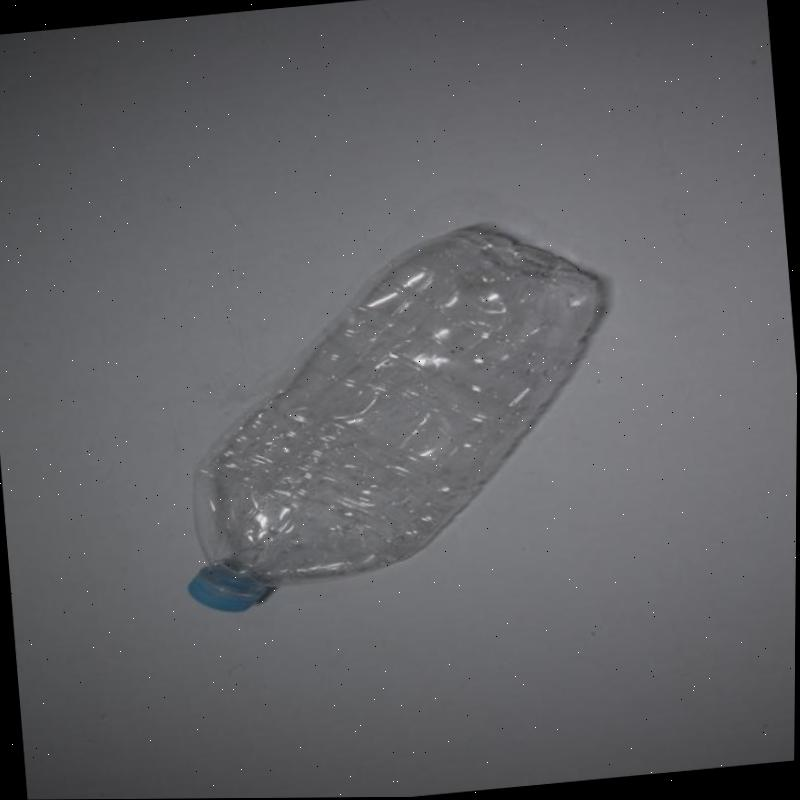botella: (157, 213, 635, 618)
